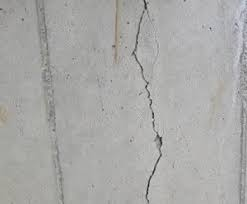crack: (130, 0, 162, 203)
